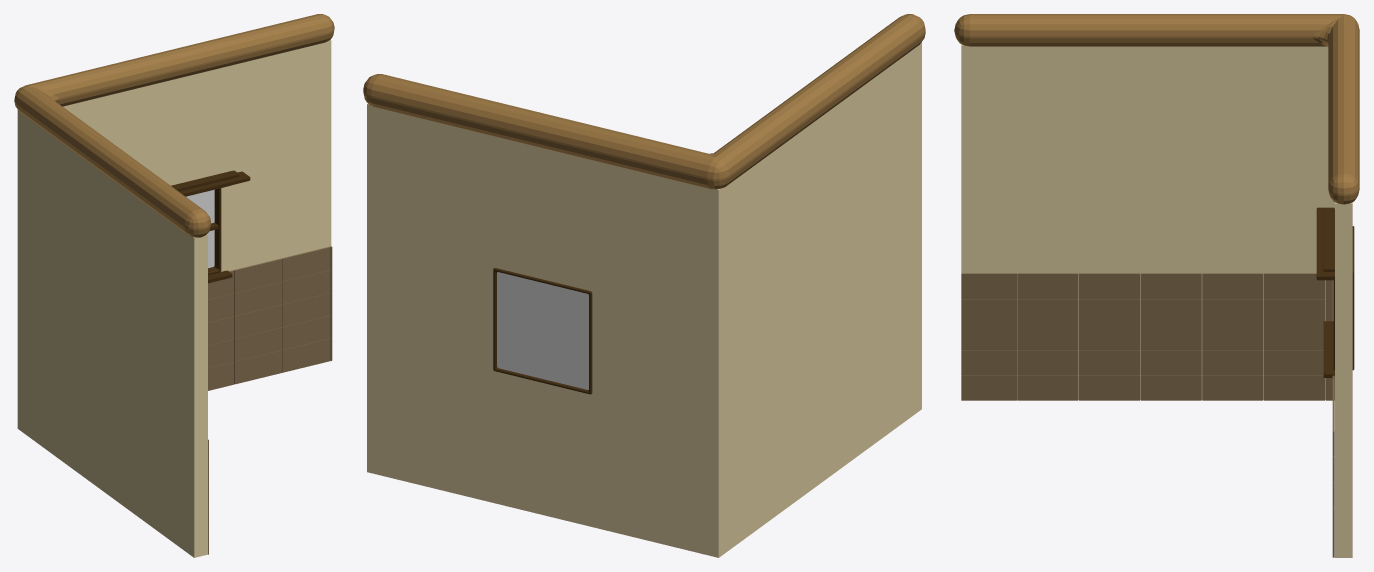
File: CornerWallwithWindow02.fbx
3 renders of one model, left to right at view 1: azimuth 30°, elevation 25°; view 2: azimuth 150°, elevation 25°; view 3: azimuth 270°, elevation 25°, orthographic. The views are drawn at different scales.
Visible parts, largest first — view 1: CornerWall-Window03; view 2: CornerWall-Window03; view 3: CornerWall-Window03.
Boxes of the visible parts, left/top/right/bottom form: CornerWall-Window03: left=14, top=14, right=334, bottom=557; CornerWall-Window03: left=363, top=14, right=925, bottom=557; CornerWall-Window03: left=954, top=14, right=1359, bottom=557.
Size of the model in its own units: 207 by 215 by 207.
